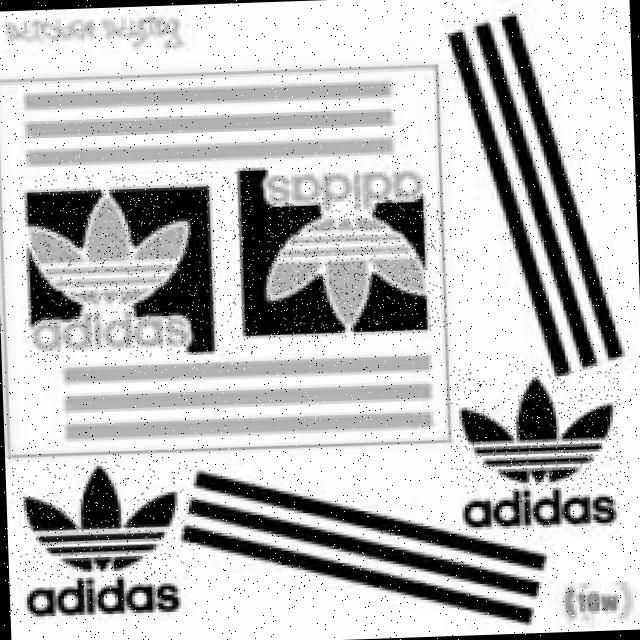Adidas: (18, 168, 257, 361), (264, 193, 451, 341), (11, 452, 200, 583), (446, 360, 624, 494)
